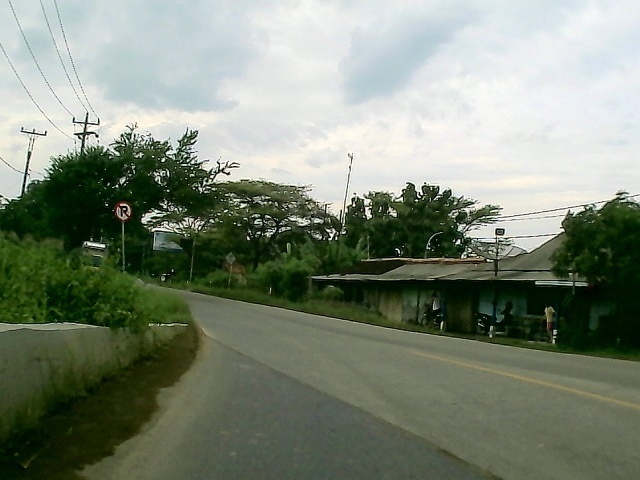Dilarang parkir: (111, 201, 134, 222)
